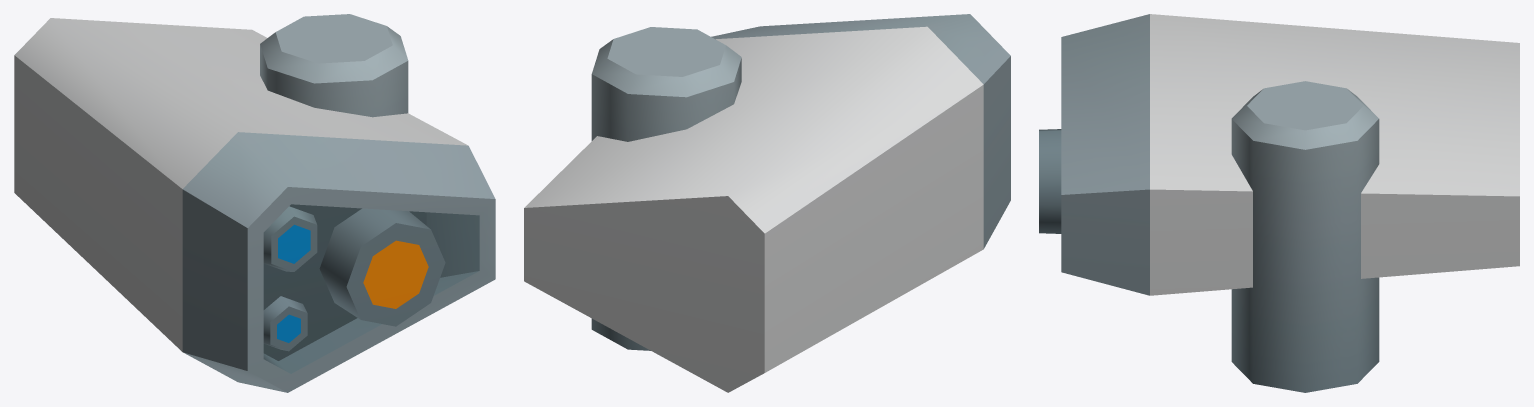
File: Cam_009.fbx
3 views of the same model, side by side, from view 1: azimuth 30°, elevation 25°; view 2: azimuth 150°, elevation 25°; view 3: azimuth 270°, elevation 25° (orthographic). The views are drawn at different scales.
Visible parts, largest first — view 1: Cam_009; view 2: Cam_009; view 3: Cam_009.
Part boxes in pixels (x1=…): Cam_009: x1=14, y1=14, x2=495, y2=392; Cam_009: x1=524, y1=14, x2=1010, y2=392; Cam_009: x1=1039, y1=14, x2=1519, y2=392.
Bounding box in the file's own units: 22.39 × 32.41 × 19.69.
